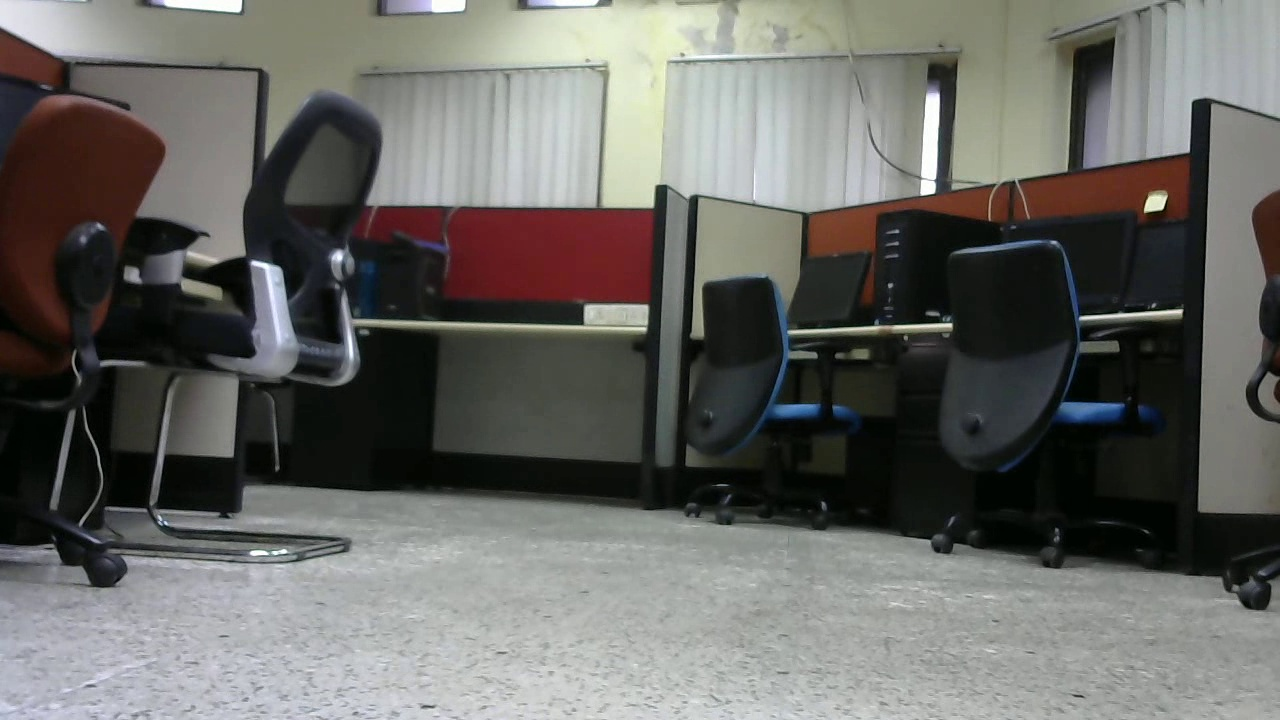chair: (91, 92, 394, 570), (916, 228, 1166, 570), (663, 255, 870, 529)
